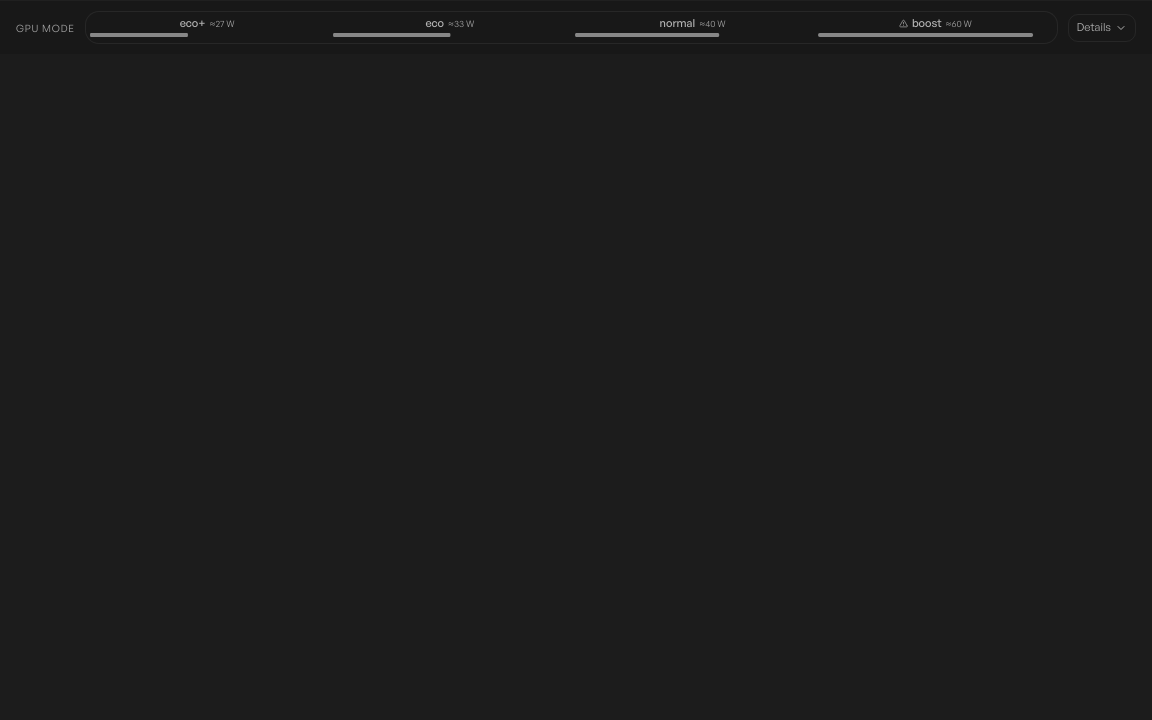
Test case: DeviceModeStrip › highlights nothing when neither a reading nor a target exists
Click the button with test id "device-toggle-detail" at (1102, 28), box top-left (1068, 14), bottom-right (1136, 42)
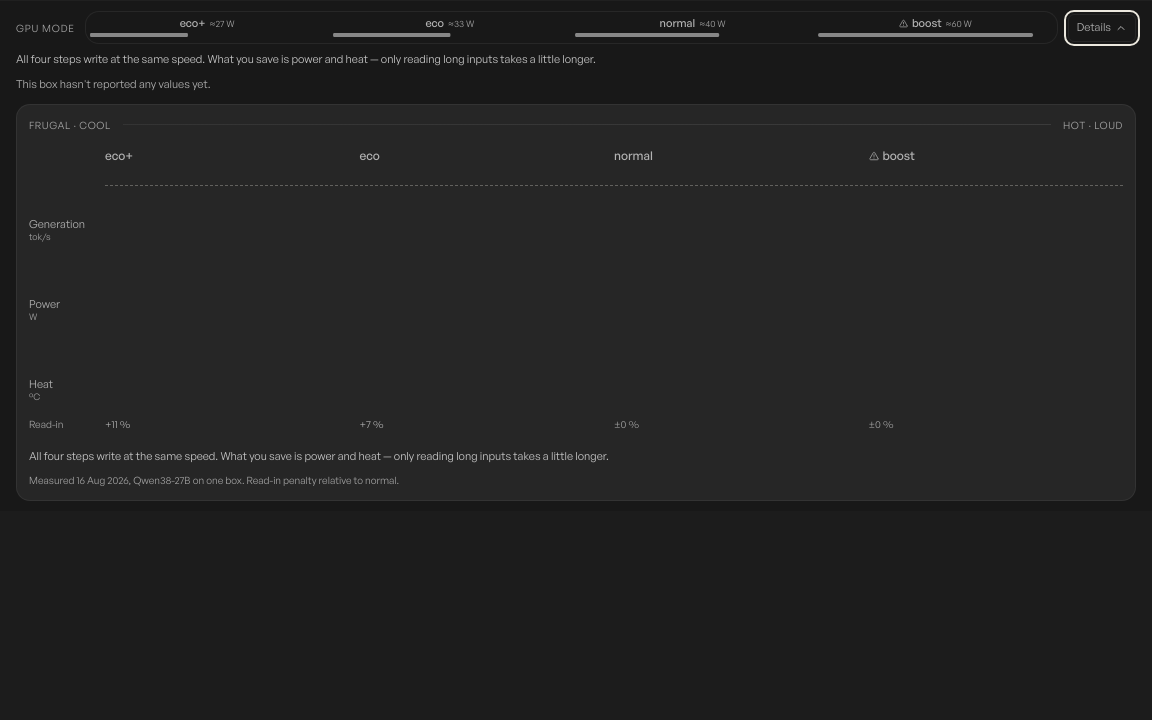
expect the element with test id "device-detail" is shown: met, box top-left (16, 104), bottom-right (1136, 501)
expect the text "This box hasn't reported any values yet." is shown: met, box top-left (16, 77), bottom-right (210, 91)
